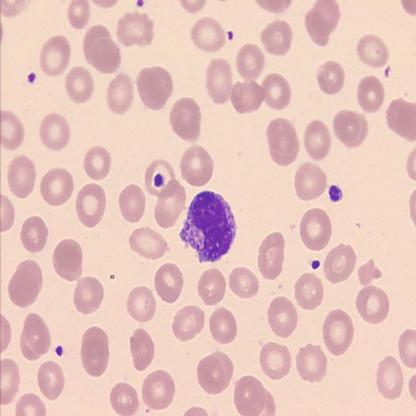Metamyelocyte: (177, 188, 238, 264)
